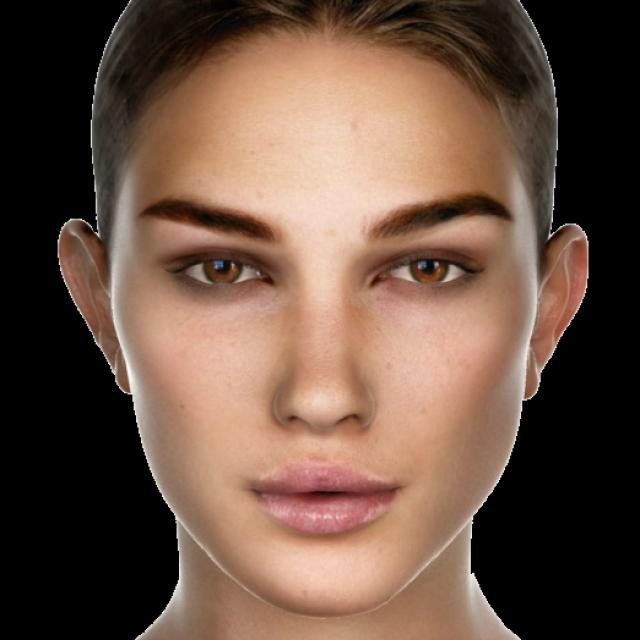earlobe: (522, 334, 549, 400), (107, 336, 131, 396)
eye: (175, 256, 264, 287), (388, 256, 471, 287)
nose: (275, 414, 372, 464)
wholeear: (57, 219, 132, 395), (522, 224, 588, 398)
